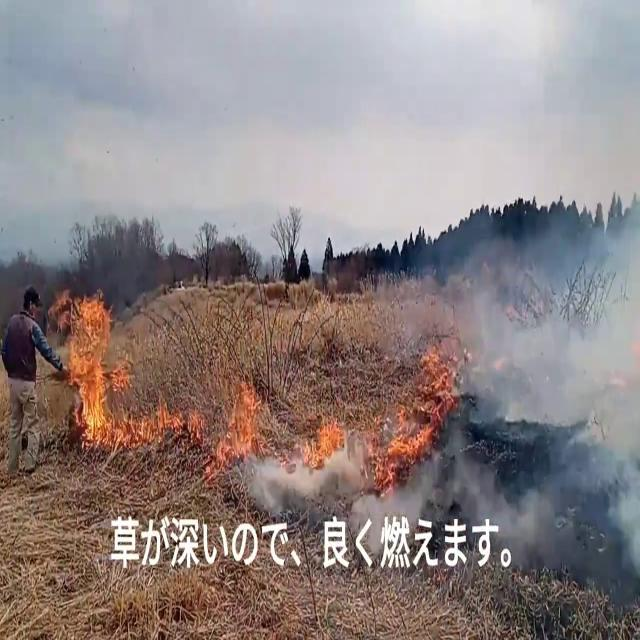Fire: (378, 321, 460, 492), (64, 291, 126, 446), (220, 374, 266, 468), (306, 409, 349, 472)
Smoke: (413, 49, 640, 582)
